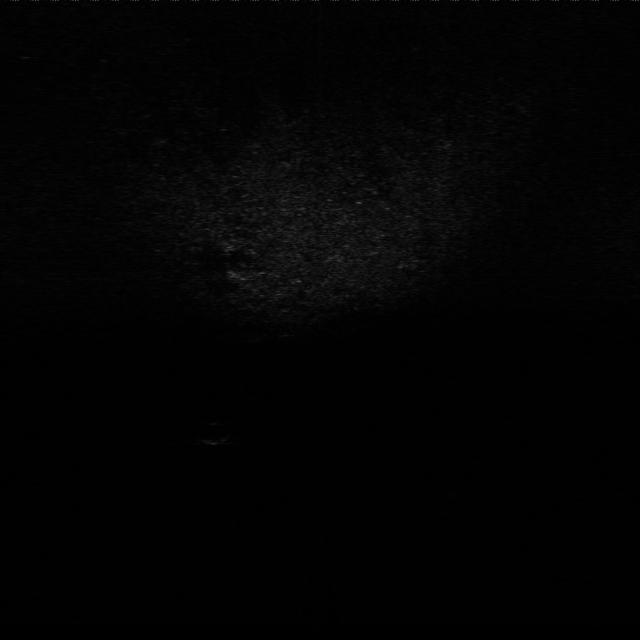ball: (197, 419, 233, 448)
